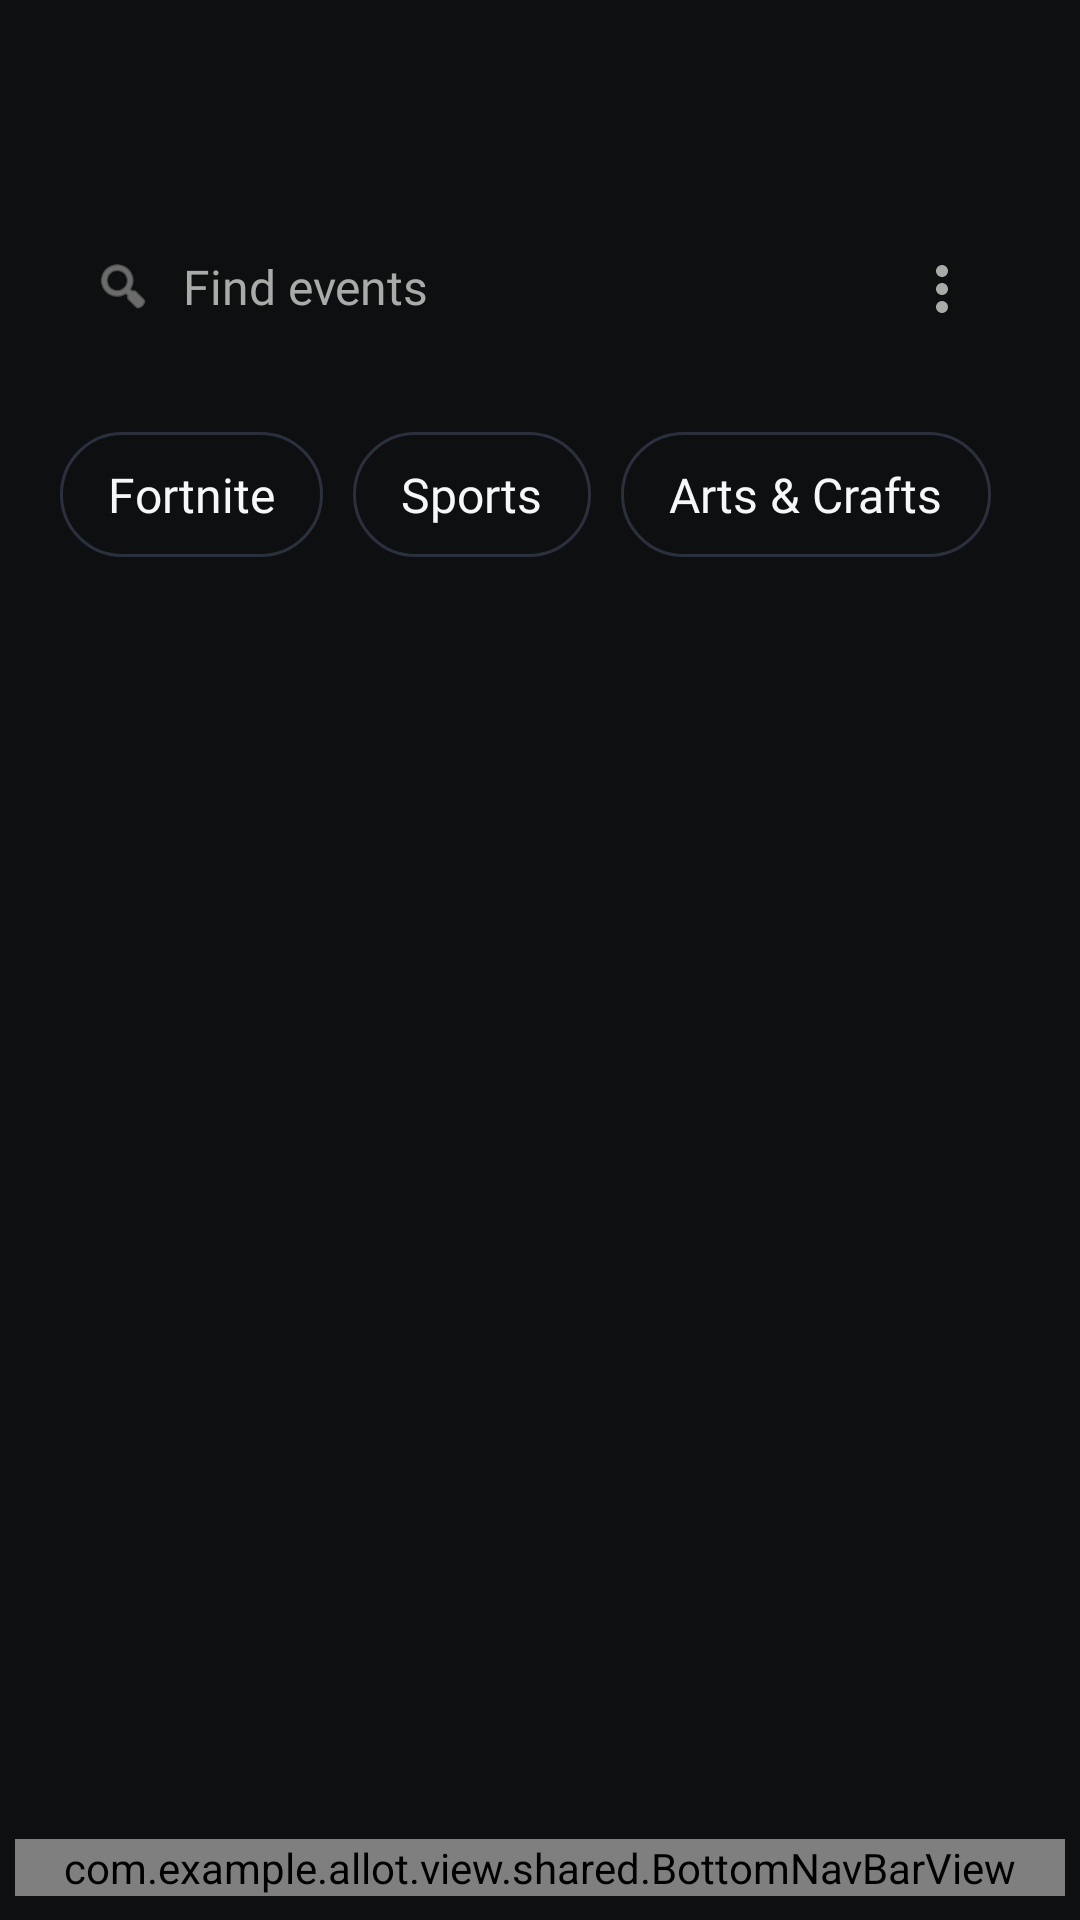

Locate icon controls on the screen. Image size 1080×1920, boxes as box(x1, y1, x2, y2).
search: box(101, 264, 145, 308)
